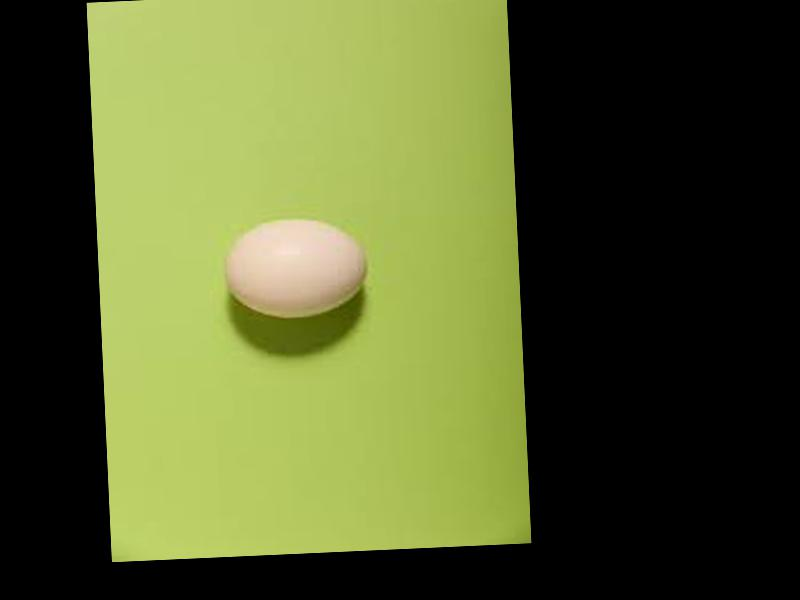Eggs: (223, 218, 372, 320)
